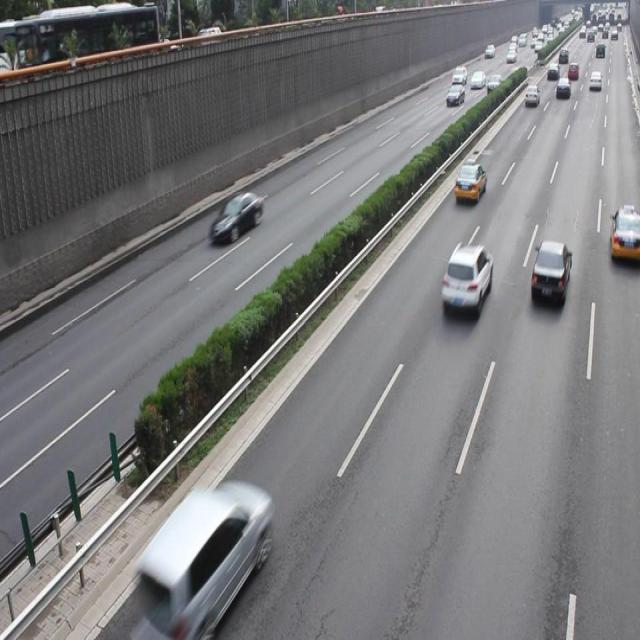car: (135, 482, 271, 640), (439, 240, 492, 317), (209, 188, 263, 242), (529, 237, 571, 300), (606, 206, 640, 263), (453, 160, 486, 204)
